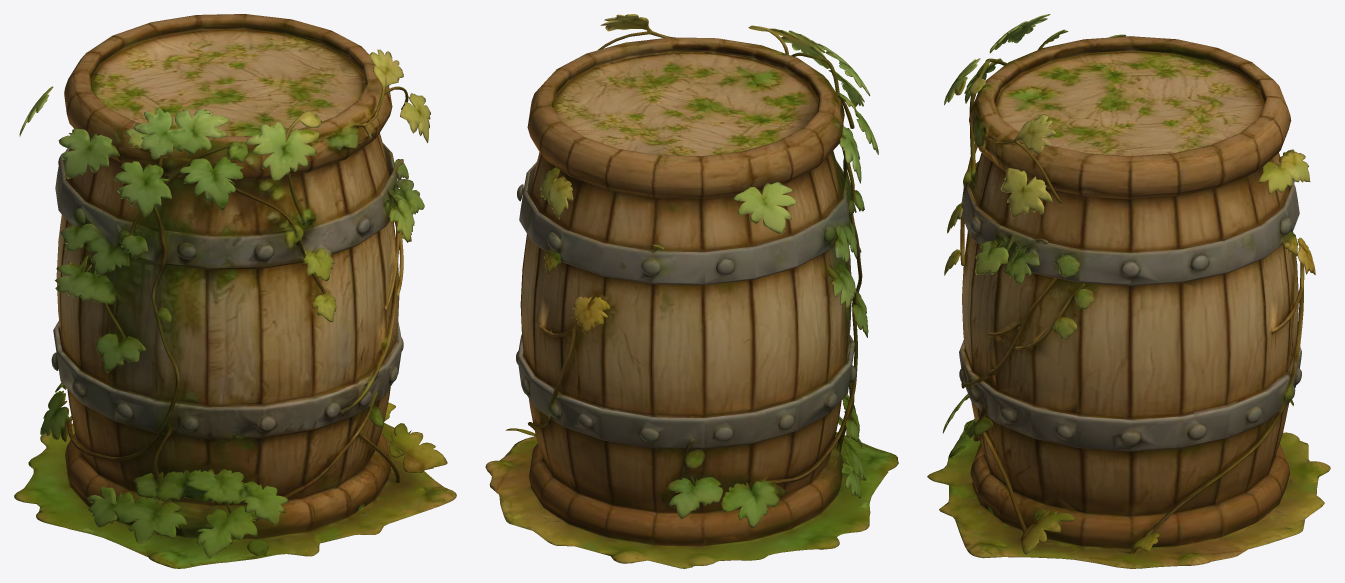
Rendered from wood-1.glb.
The picture shows the model from 3 angles, left to right: view 1: azimuth 30°, elevation 25°; view 2: azimuth 150°, elevation 25°; view 3: azimuth 270°, elevation 25°; orthographic projection. The views are drawn at different scales.
Visible parts, largest first — view 1: material; view 2: material; view 3: material.
Part boxes in pixels (x1=…): material: x1=14, y1=14, x2=456, y2=568; material: x1=485, y1=14, x2=898, y2=568; material: x1=927, y1=14, x2=1330, y2=568.
Size of the model in its own units: 0.7602 by 0.8589 by 0.7442.
1 material, 1 textured.
